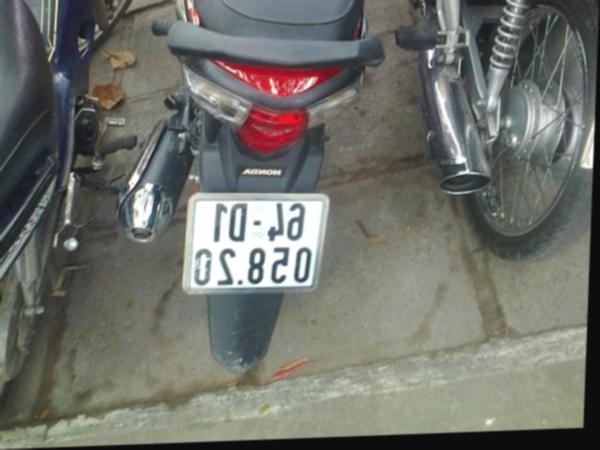License_Plate: (189, 196, 326, 289)
